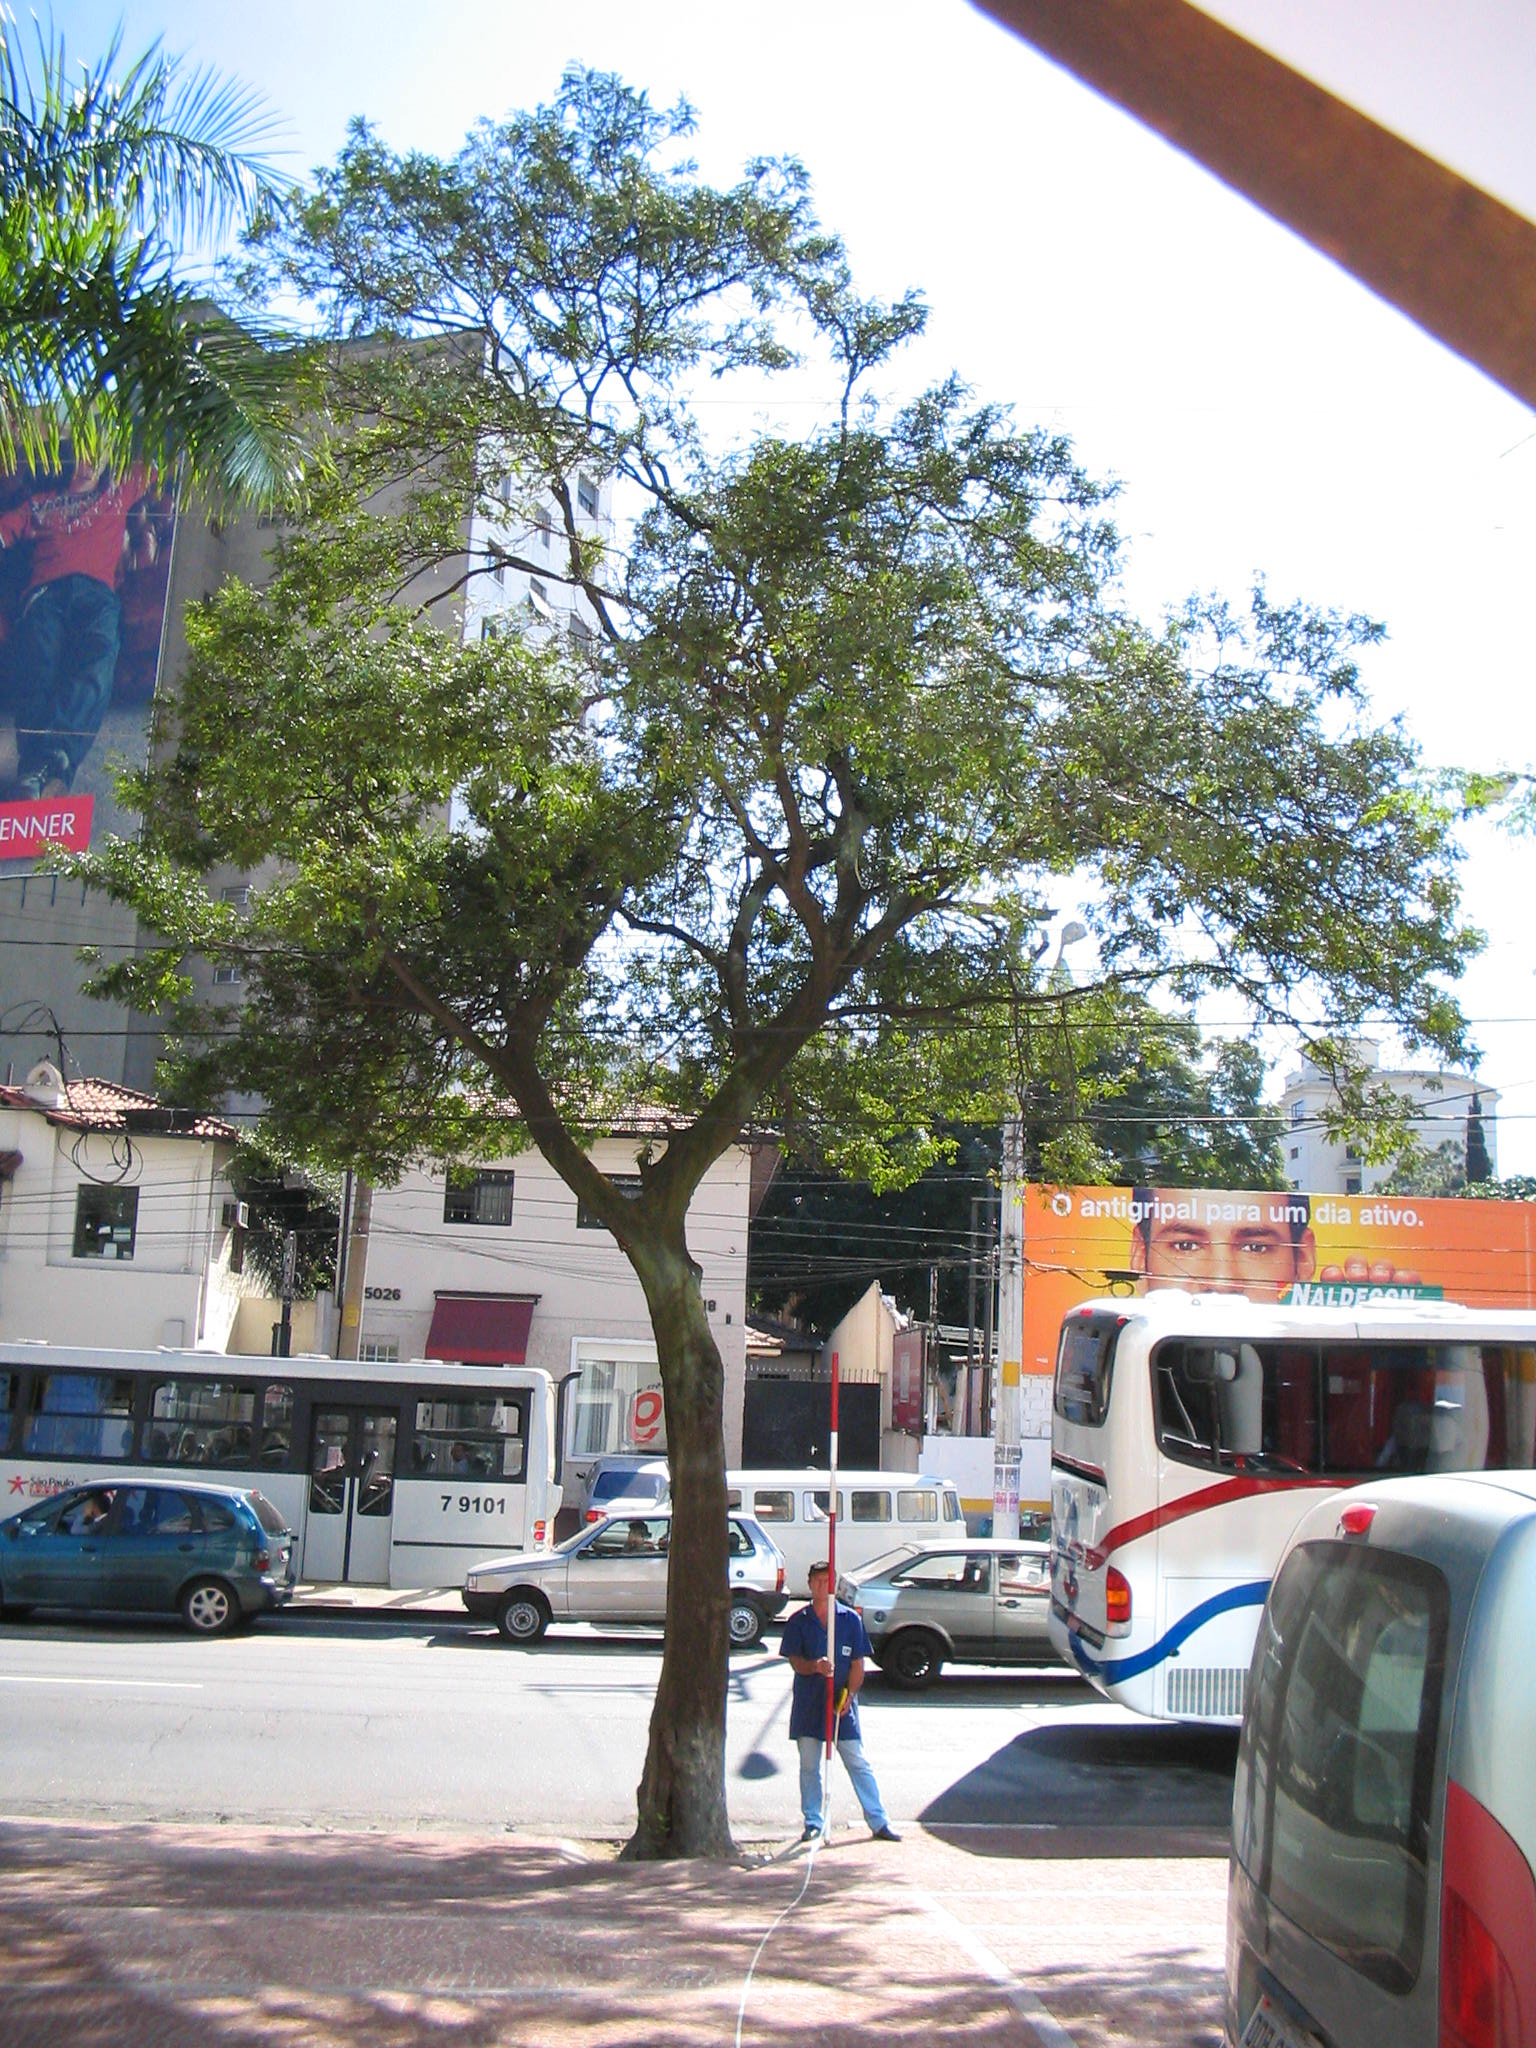crown: (48, 387, 1528, 1250)
stem: (541, 1213, 795, 1863)
stick: (805, 1345, 854, 1846)
tree: (44, 379, 1531, 1863)
